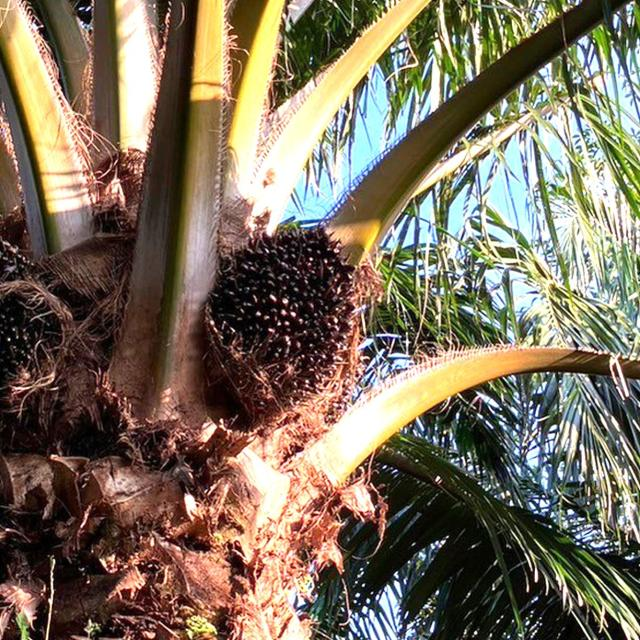almost: (192, 201, 380, 447)
